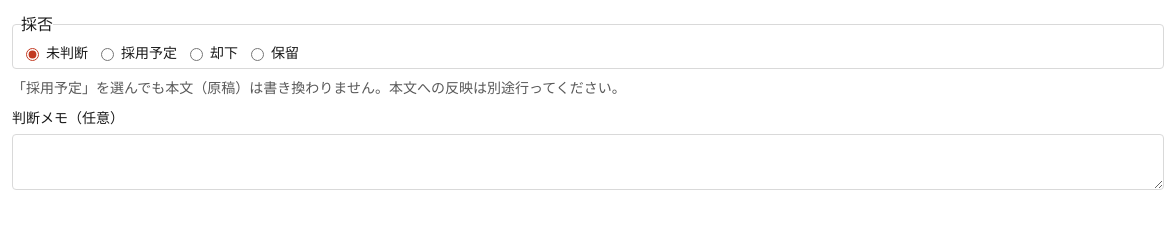
Scenario: JudgmentControl: 保存の直列化 › 保存中に、保存中の値へ戻したら、送信待ちを取り消して余分に送らない
This screenshot has width=1176, height=234.
Click the radio button labelled "却下" at (196, 54), box [190,48,203,61]
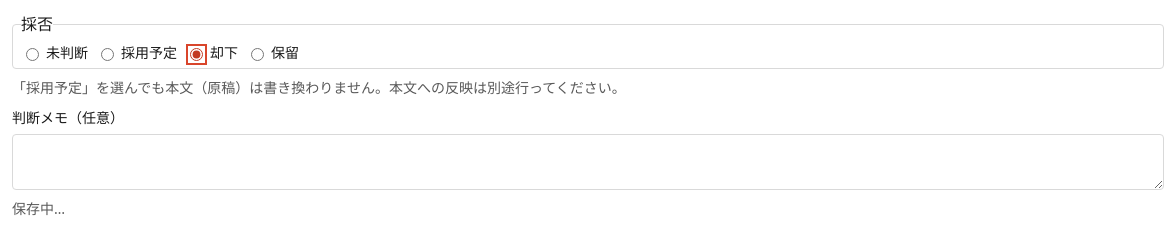
Click the radio button labelled "保留" at (258, 54), box [251,48,264,61]
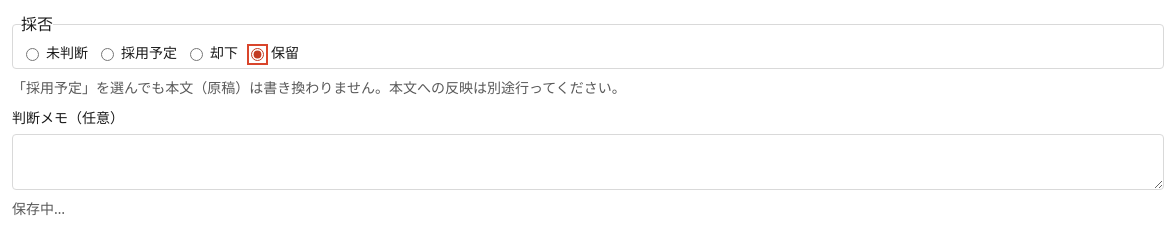
Click the radio button labelled "却下" at (196, 54), box [190,48,203,61]
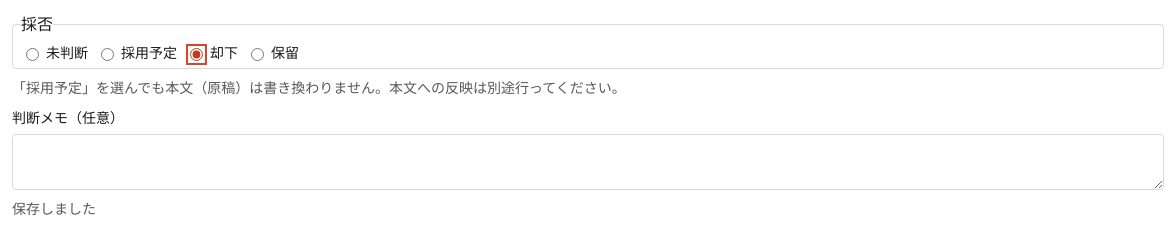
Check: the text "保存しました" is shown, box [12,199,96,218]
